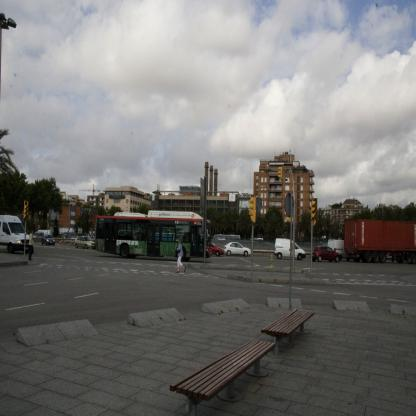Bus: (92, 208, 209, 264)
